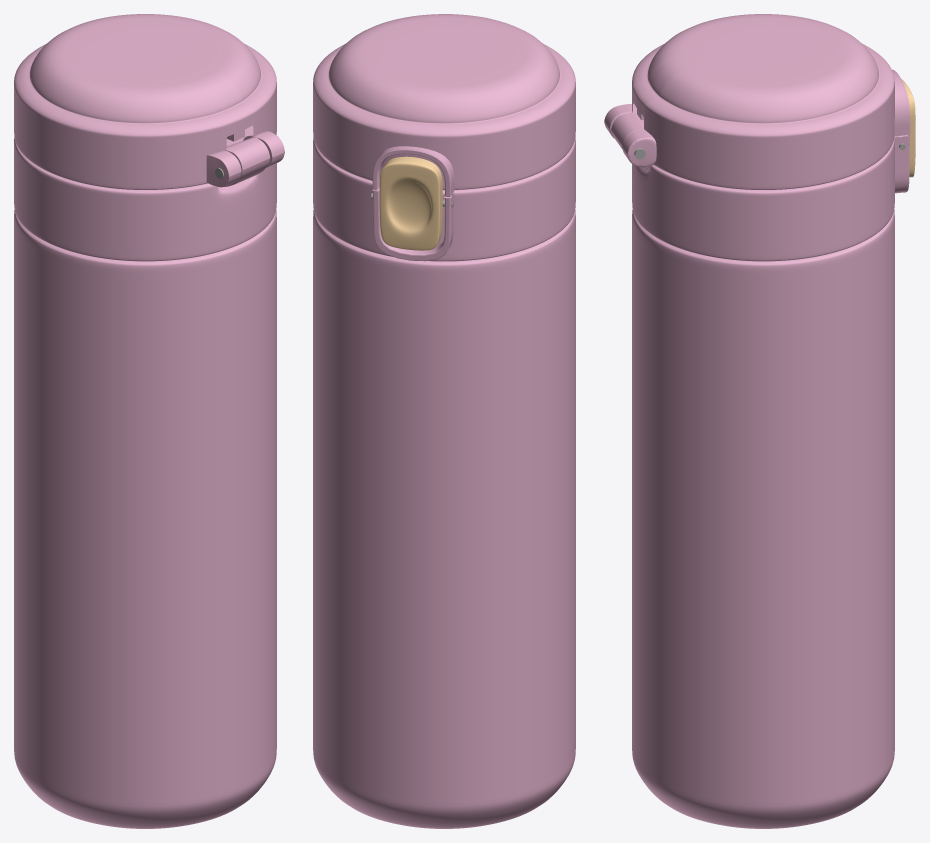
File: pink_tumbler.glb
3 views of the same model, side by side, from view 1: azimuth 30°, elevation 25°; view 2: azimuth 150°, elevation 25°; view 3: azimuth 270°, elevation 25° (orthographic).
Visible parts, largest first — view 1: Cylinder.011_11, Cylinder.013_13, Cylinder.012_12, Cube.016_18, Cube.014_15, Cube.015_17; view 2: Cylinder.011_11, Cylinder.013_13, Cylinder.012_12, Cube.018_20, Cube.001_14; view 3: Cylinder.011_11, Cylinder.013_13, Cylinder.012_12, Cube.015_17, Cube.001_14, Cube.016_18, Cube.018_20.
Boxes of the visible parts, left/top/right/bottom form: Cylinder.011_11: left=14, top=210, right=276, bottom=828; Cylinder.013_13: left=14, top=14, right=276, bottom=189; Cylinder.012_12: left=14, top=125, right=276, bottom=261; Cube.016_18: left=224, top=137, right=270, bottom=186; Cube.014_15: left=206, top=150, right=241, bottom=187; Cube.015_17: left=243, top=131, right=284, bottom=167; Cylinder.011_11: left=313, top=210, right=575, bottom=828; Cylinder.013_13: left=313, top=14, right=575, bottom=190; Cylinder.012_12: left=313, top=137, right=575, bottom=261; Cube.018_20: left=379, top=156, right=442, bottom=250; Cube.001_14: left=372, top=146, right=454, bottom=197; Cylinder.011_11: left=632, top=210, right=894, bottom=828; Cylinder.013_13: left=632, top=14, right=894, bottom=189; Cylinder.012_12: left=632, top=134, right=909, bottom=261; Cube.015_17: left=622, top=129, right=656, bottom=166; Cube.001_14: left=892, top=69, right=910, bottom=136; Cube.016_18: left=611, top=111, right=650, bottom=168; Cube.018_20: left=901, top=79, right=915, bottom=177.
Size of the model in its own units: 0.1753 by 0.5417 by 0.2078.
